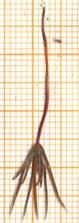flower: (6, 137, 70, 223)
root: (35, 6, 54, 41)
stem: (35, 39, 51, 139)
